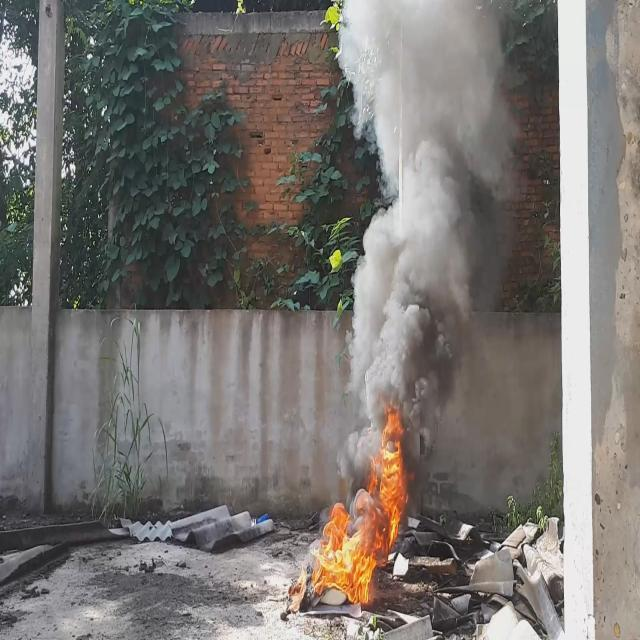Fire: (310, 404, 406, 608)
Smoke: (334, 0, 520, 485)
